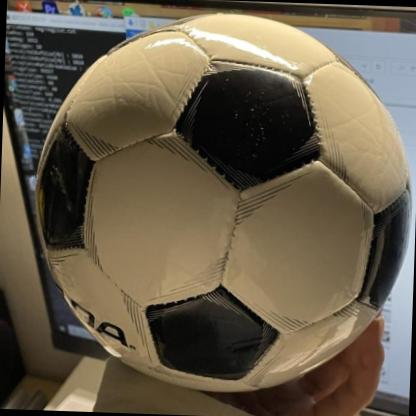ball: (24, 5, 416, 401)
